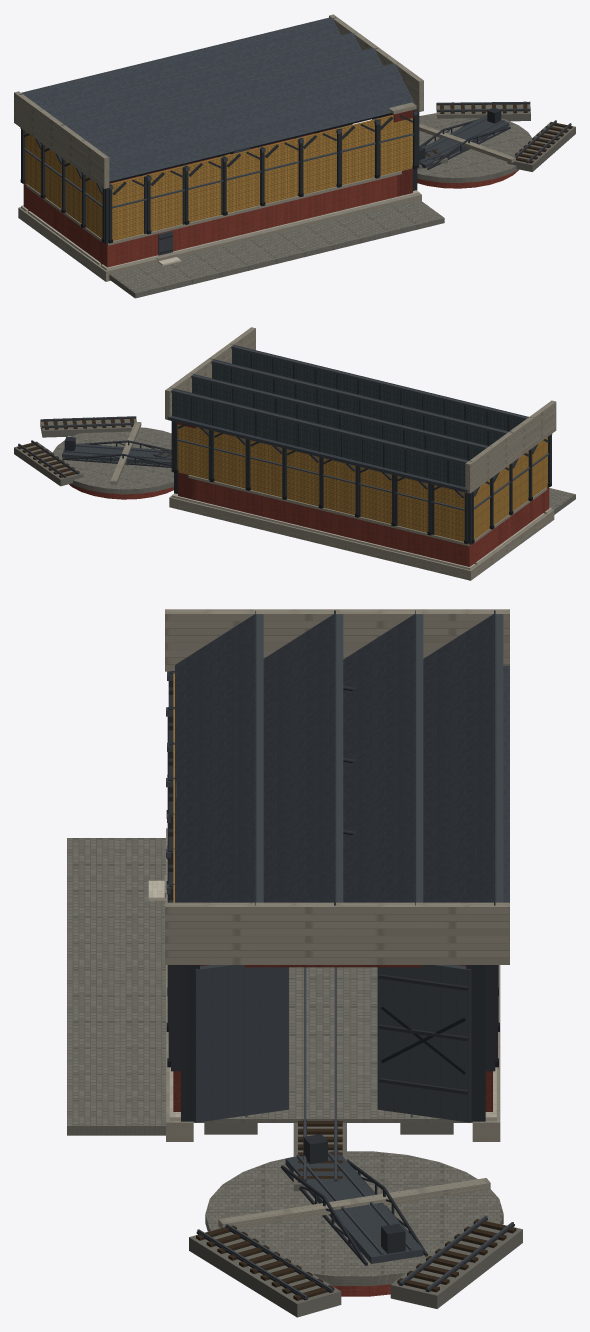
Rendered from fun-3-built.glb.
The picture shows the model from 3 angles, top to bottom: view 1: azimuth 30°, elevation 25°; view 2: azimuth 150°, elevation 25°; view 3: azimuth 270°, elevation 25°; orthographic projection. The views are drawn at different scales.
Bounding box in the file's own units: 52.35 × 13.51 × 21.41.
Materials: 40 (33 with a texture image).
